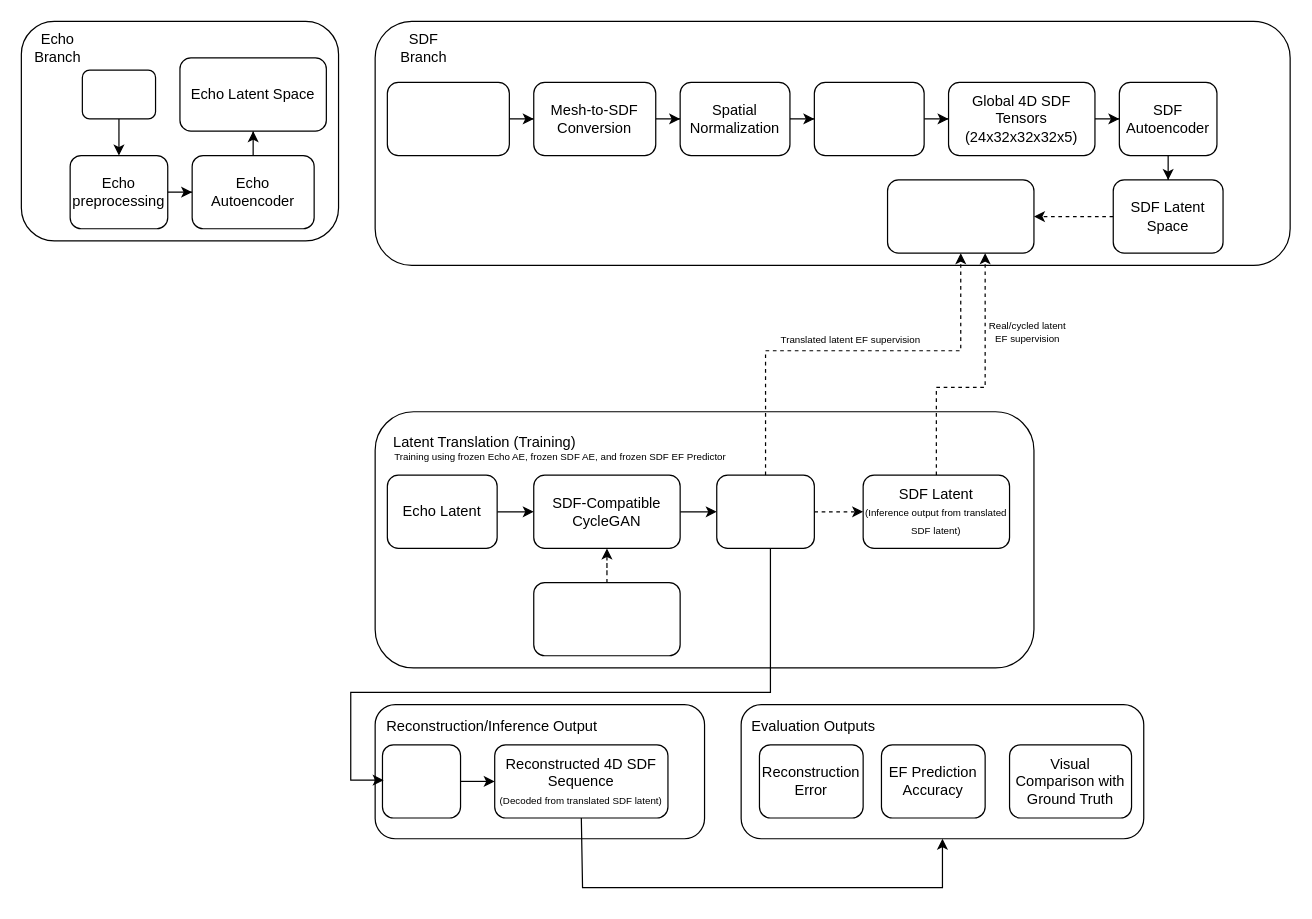
This 1312x919 diagram has some shape labels left out. The shapes that lost their labels are listed below. From the top down, each one's box as (x1, y1, x2, y2) in pixels, then its label:
(81, 69, 156, 119): 2D Echo Videos
(386, 81, 509, 156): Synthetic 4D Mesh Videos
(813, 81, 924, 156): Temporal Resampling
(886, 179, 1034, 253): SDF EF Predictor (Weak physiological supervision)
(716, 474, 814, 548): Translated SDF Latent
(533, 581, 680, 656): Adversarial loss + cycle consistency + EF loss
(381, 744, 461, 818): SDF Decoder
